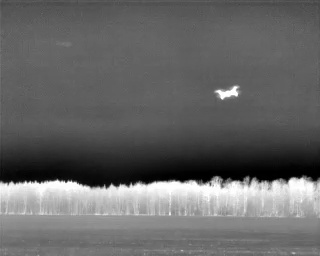DRONE: (211, 81, 244, 105)
